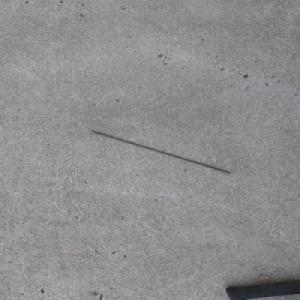LuggagePart: (89, 129, 231, 174)
